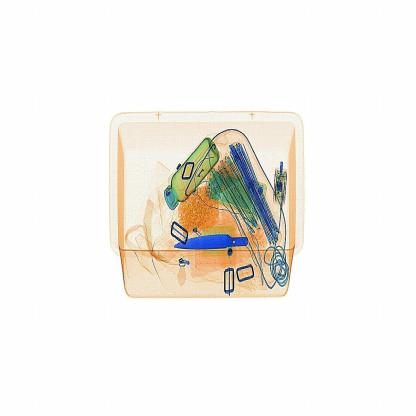wrench: (173, 233, 254, 255)
